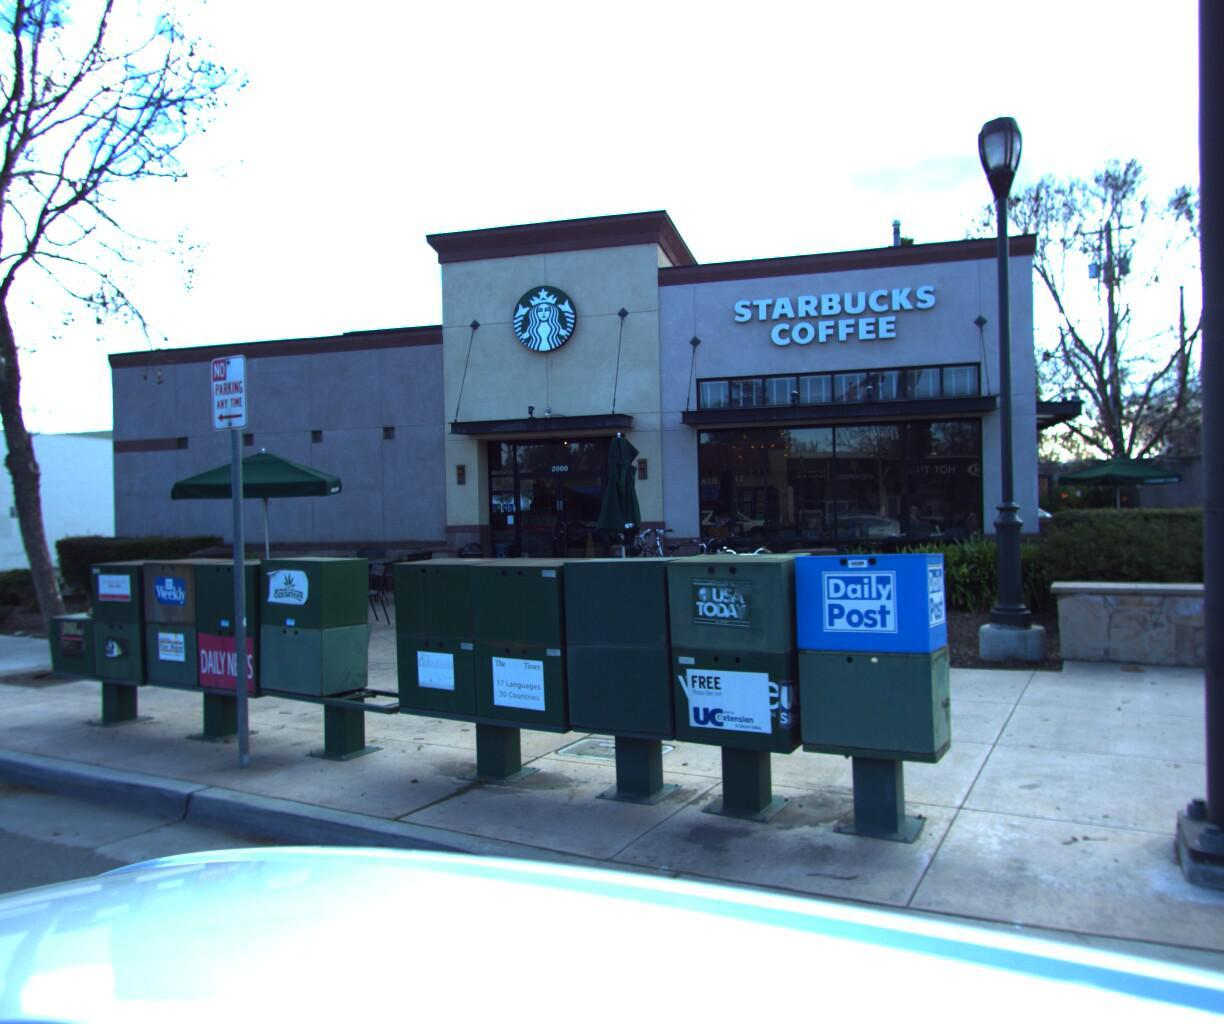bicycle: (711, 532, 806, 674), (594, 520, 729, 613), (585, 516, 709, 605), (668, 525, 791, 613)
